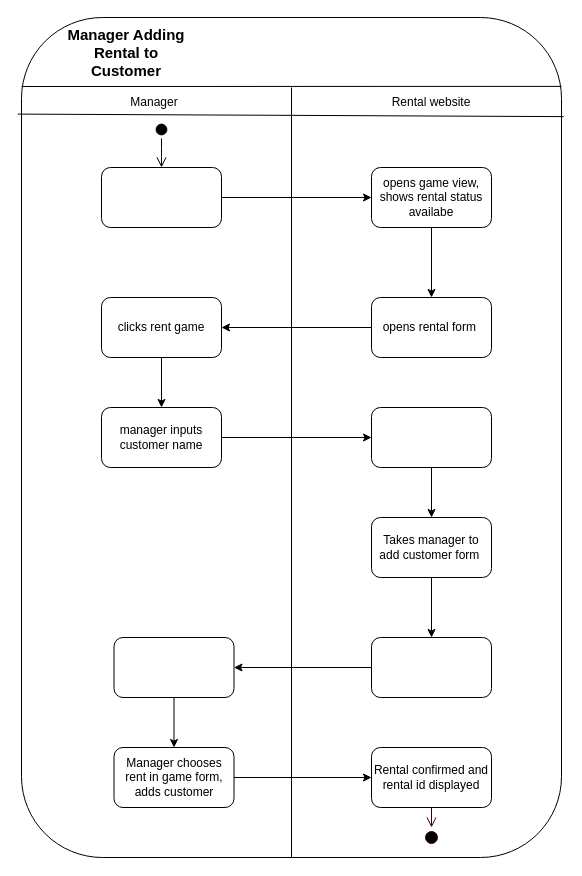
The diagram is 582 pixels wide and 876 high, and some of its shapes have lost their labels. The centre of each missing label's shape, as x and y in pixels:
"Clicks view games" belongs at point 161,197.
"Customer saved, customer now shows on rental page" belongs at point 431,667.
"Manager adds customer details" belongs at point 173,667.
"Name not on registered customers" belongs at point 431,437.
